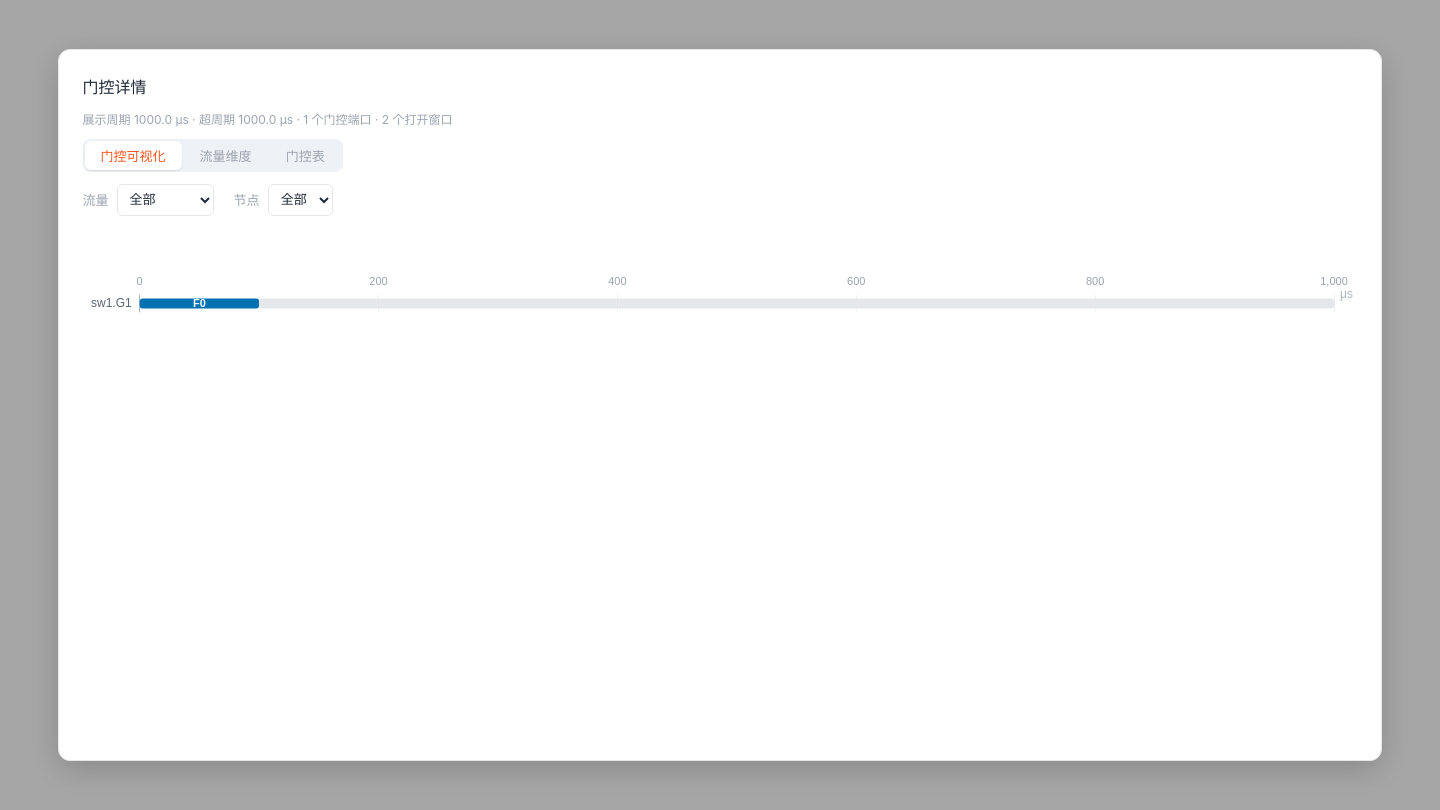
Test case: GclDetailModal › R10 门控表全列：圆点位图/关联流徽章/空窗/μs 换算/门控操作常量
Expected: the panel with test id "gcl-gantt-slot" is shown, x1=83 y1=228 x2=1357 y2=320
What coordinates should you click on to do the following:
click the tab "门控表"
I would click on:
 (305, 155)
Its box is x1=270 y1=141 x2=341 y2=170.
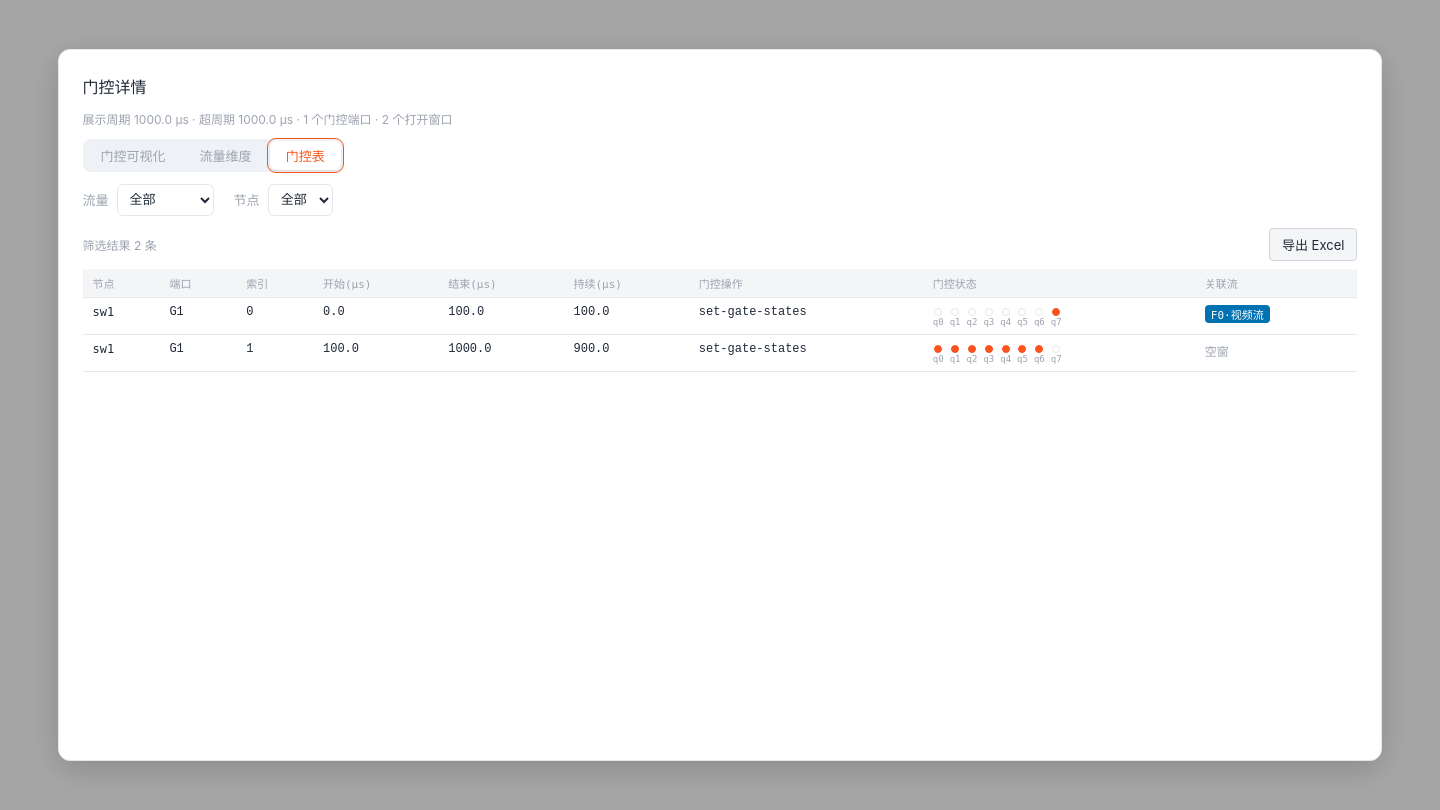
Expected: the column heading "节点" is shown, x1=83 y1=269 x2=159 y2=297
Expected: the column heading "端口" is shown, x1=159 y1=269 x2=236 y2=297
Expected: the column heading "索引" is shown, x1=236 y1=269 x2=313 y2=297
